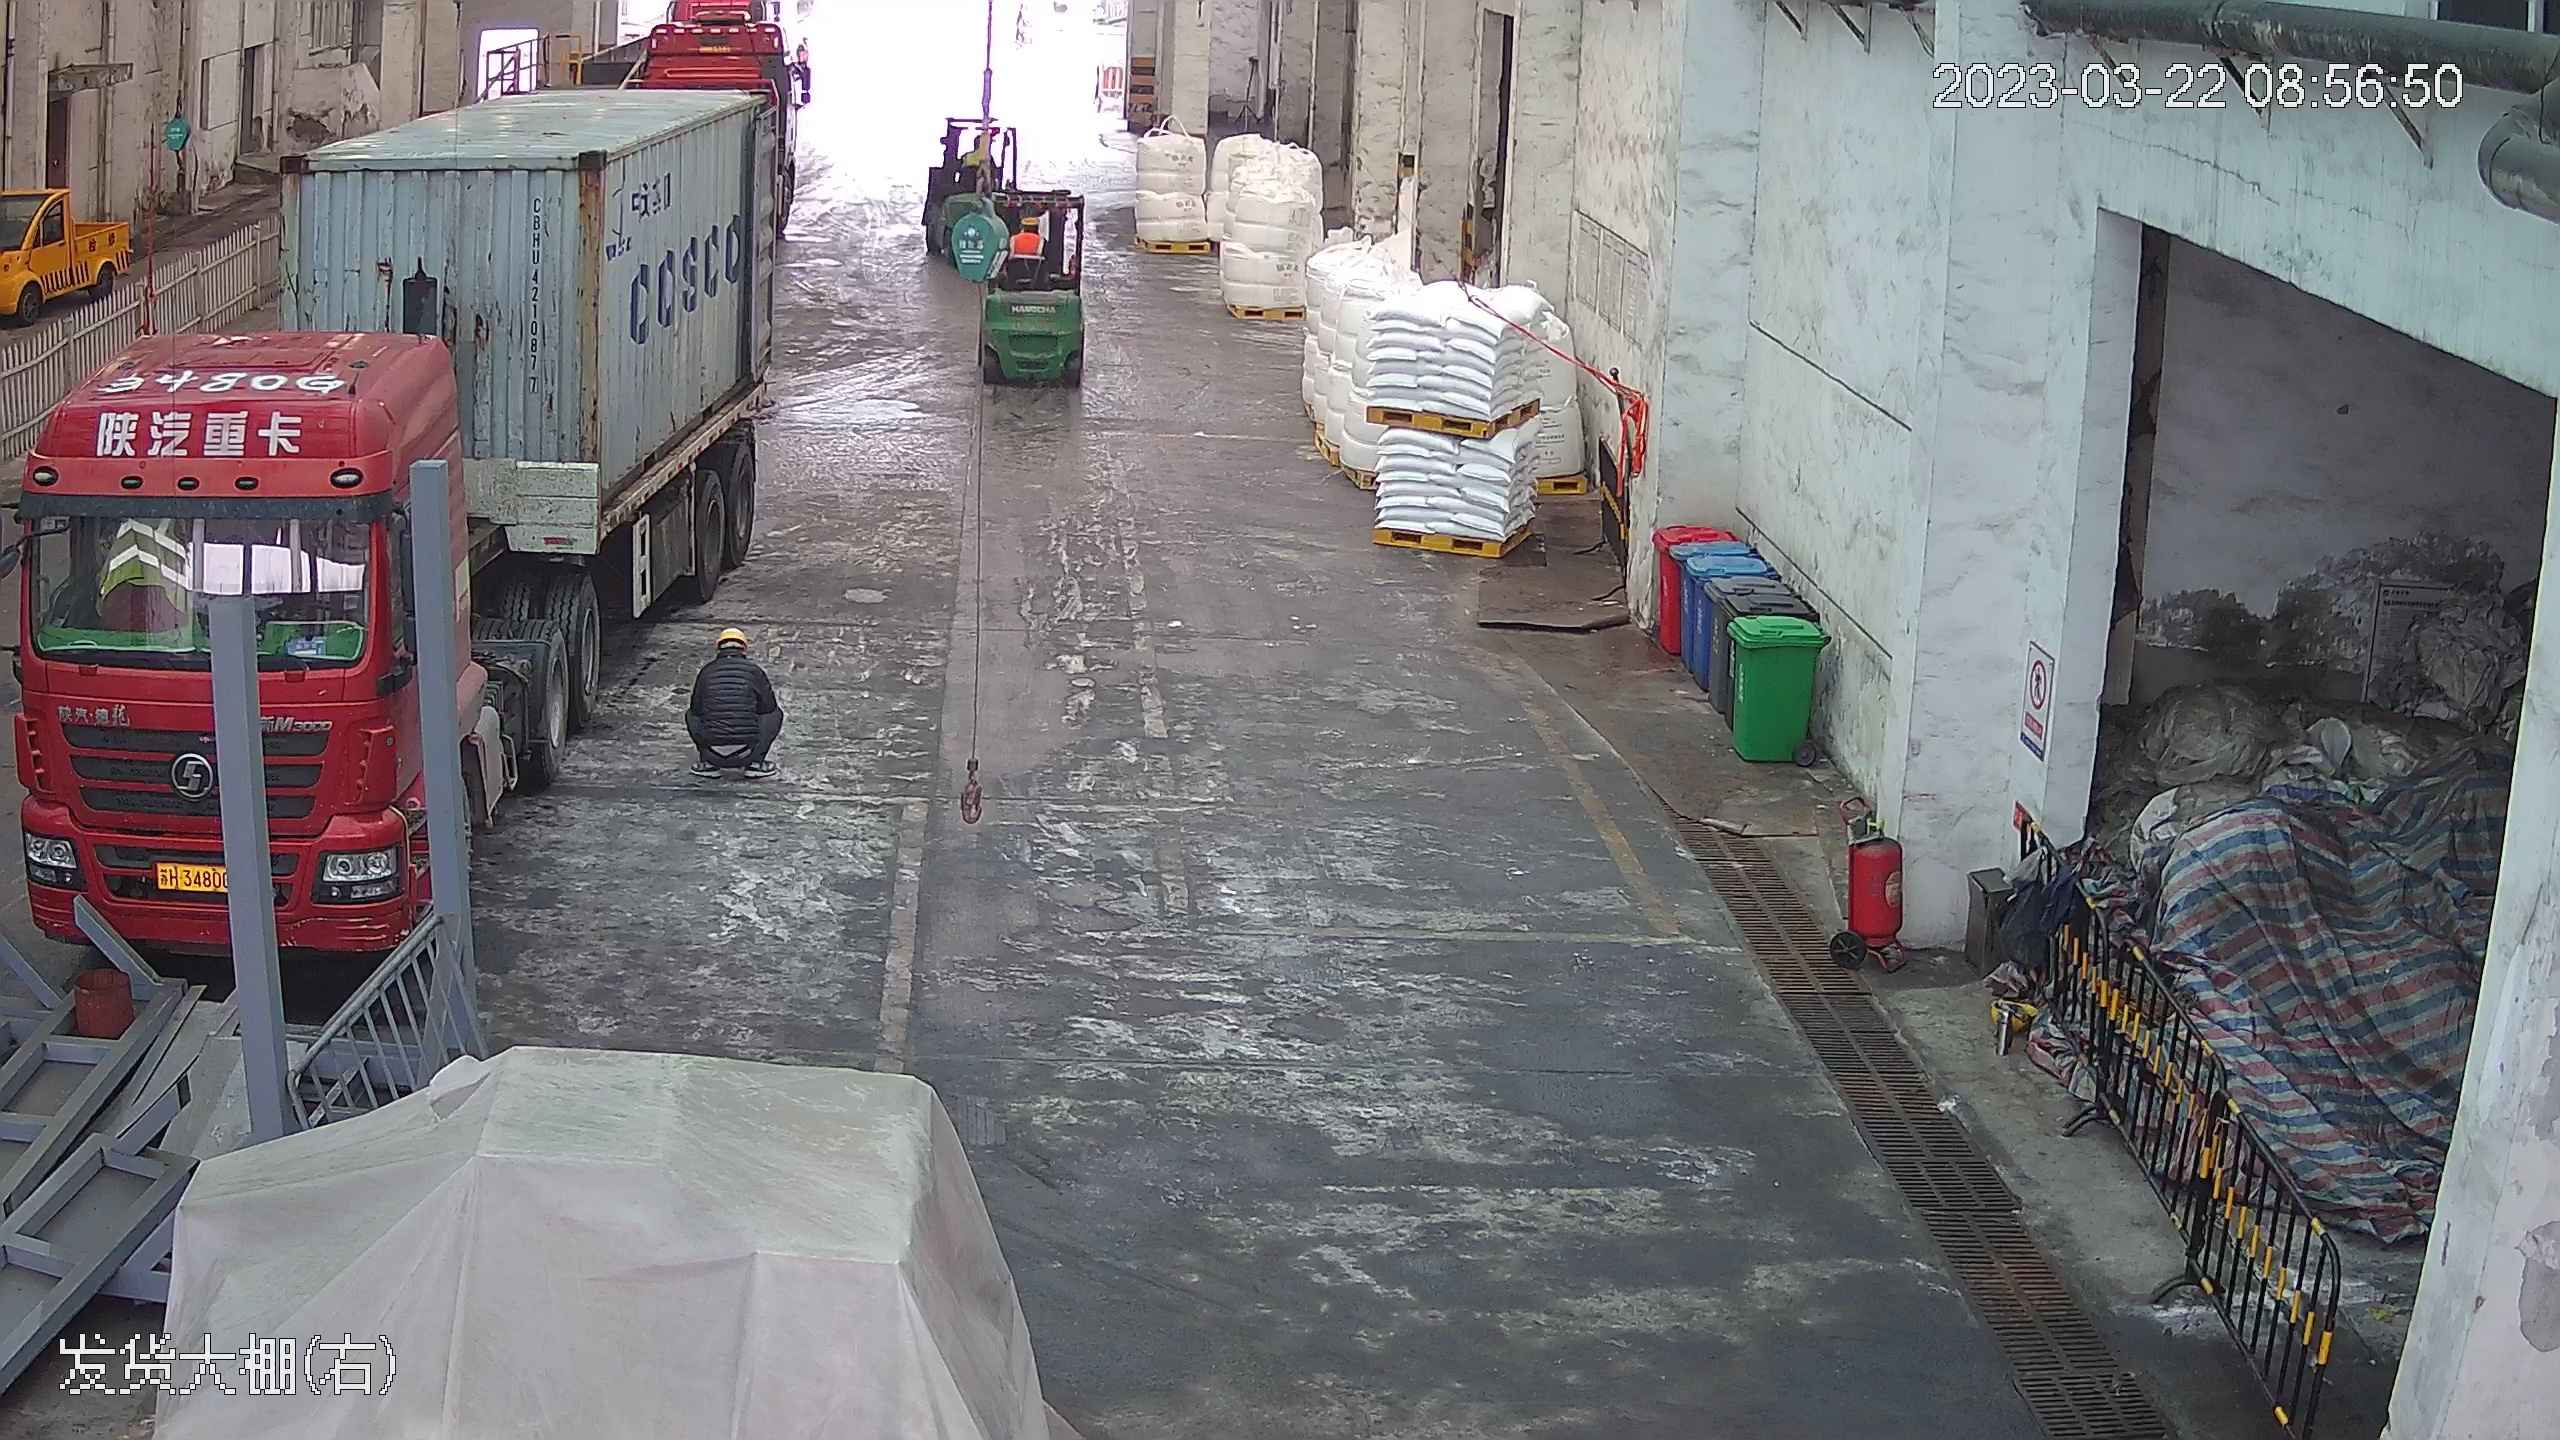head: (697, 622, 770, 689)
helmet: (712, 624, 751, 650)
people: (683, 617, 785, 786)
truck: (15, 23, 789, 970)
